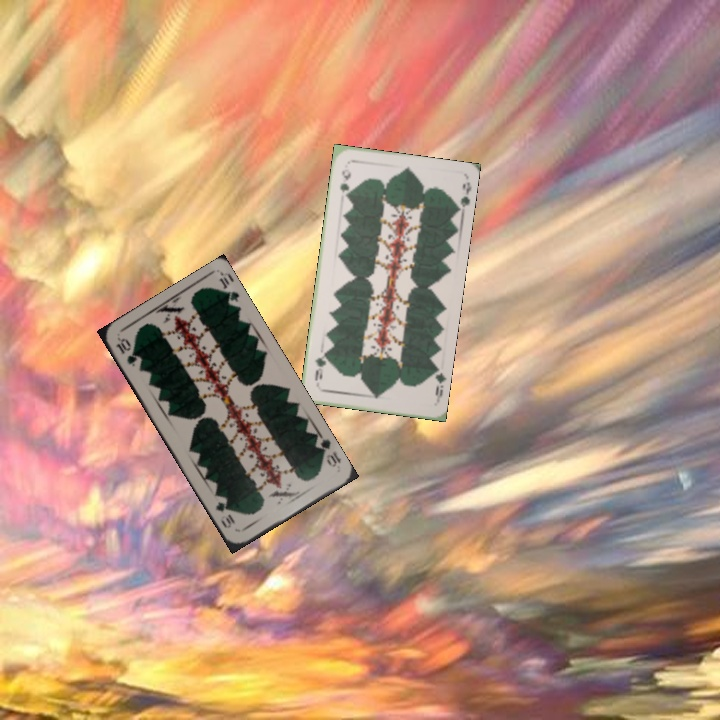G10: (311, 433, 343, 470), (111, 334, 140, 369)
G9: (427, 363, 447, 404), (336, 165, 353, 195)
